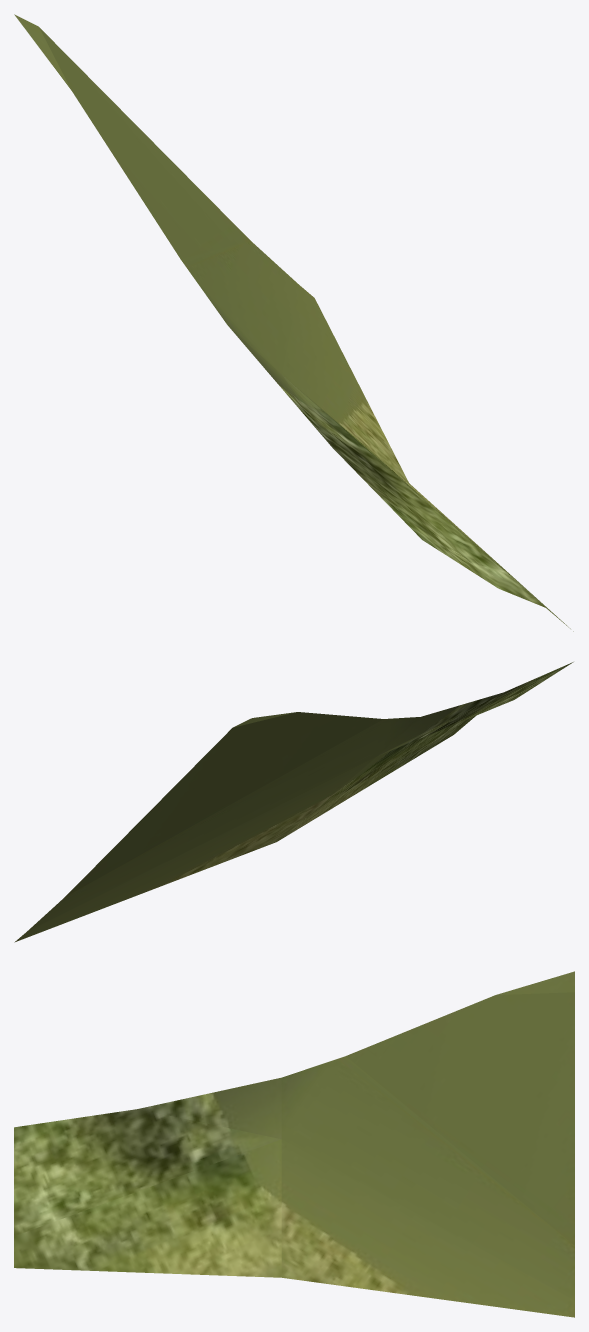
3 renders of one model, top to bottom at view 1: azimuth 30°, elevation 25°; view 2: azimuth 150°, elevation 25°; view 3: azimuth 270°, elevation 25°, orthographic. The views are drawn at different scales.
Size of the model in its own units: 1.25 by 1.42 by 2.95.
2 materials, 2 textured.
